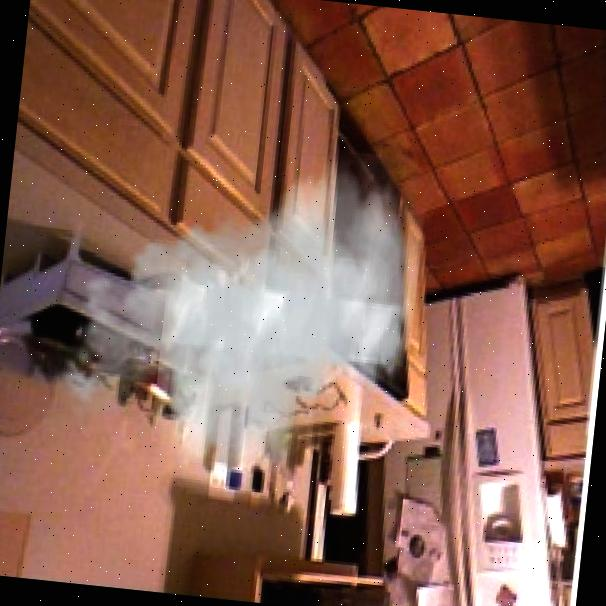smoke: (40, 122, 431, 515)
